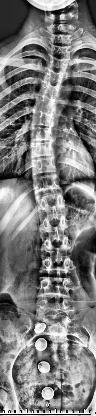Vertebrae: (39, 250, 77, 276), (33, 92, 68, 116), (39, 228, 74, 252), (34, 297, 74, 318), (36, 276, 74, 298), (37, 209, 69, 233), (35, 190, 69, 212), (32, 172, 62, 196), (30, 109, 62, 130), (28, 139, 58, 161), (26, 125, 58, 144), (29, 156, 59, 176), (38, 80, 66, 98), (42, 66, 68, 84), (47, 53, 71, 70), (50, 43, 72, 59)
